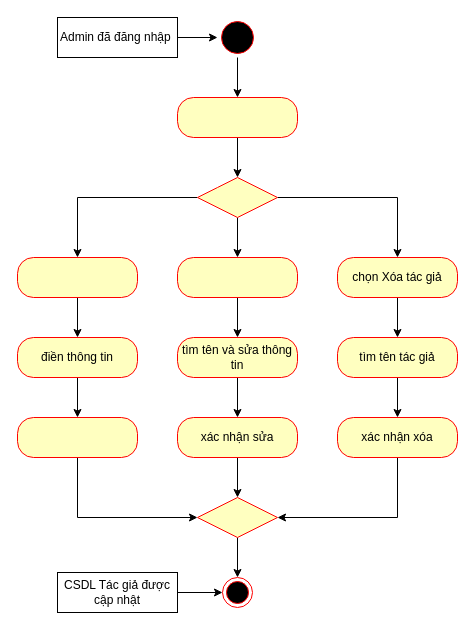
This 475x630 diagram has some shape labels left out. Here are the shapes that lost their labels. From the top down, the centre of each, then its label:
At pixel 237 117: "chọn Cập nhật tác giả".
At pixel 77 277: "chọn Thêm tác giả".
At pixel 237 277: "chọn Sửa tác giả".
At pixel 77 437: "xác nhận thêm".
